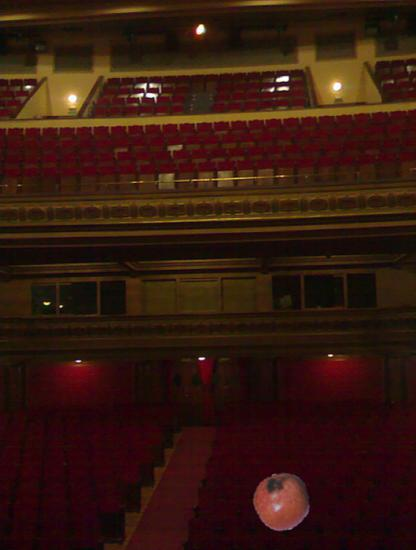Pomegranate: (253, 473, 311, 531)
